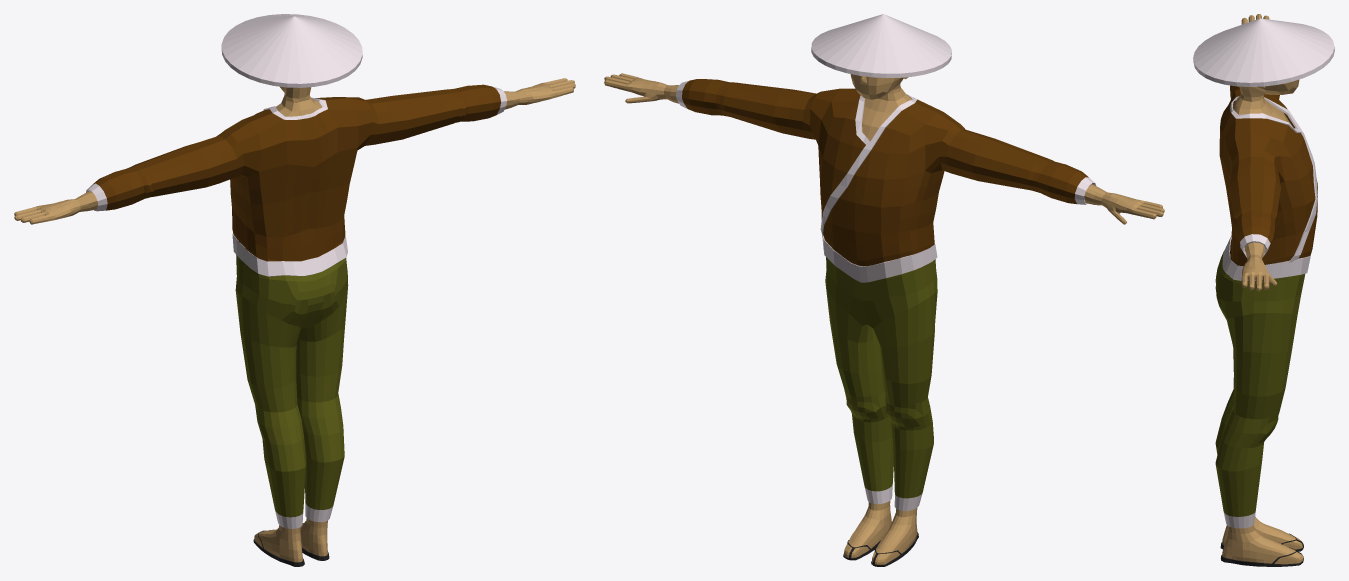
File: corpsPersosPaysan (1).fbx
3 views of the same model, side by side, from view 1: azimuth 30°, elevation 25°; view 2: azimuth 150°, elevation 25°; view 3: azimuth 270°, elevation 25° (orthographic).
Visible parts, largest first — view 1: Corps Paysan; view 2: Corps Paysan; view 3: Corps Paysan.
Part boxes in pixels (x1,y1,x2,y2): Corps Paysan: (14, 14, 575, 566); Corps Paysan: (604, 14, 1164, 566); Corps Paysan: (1193, 14, 1334, 566).
Bounding box in the file's own units: 186 × 170 × 40.62.
